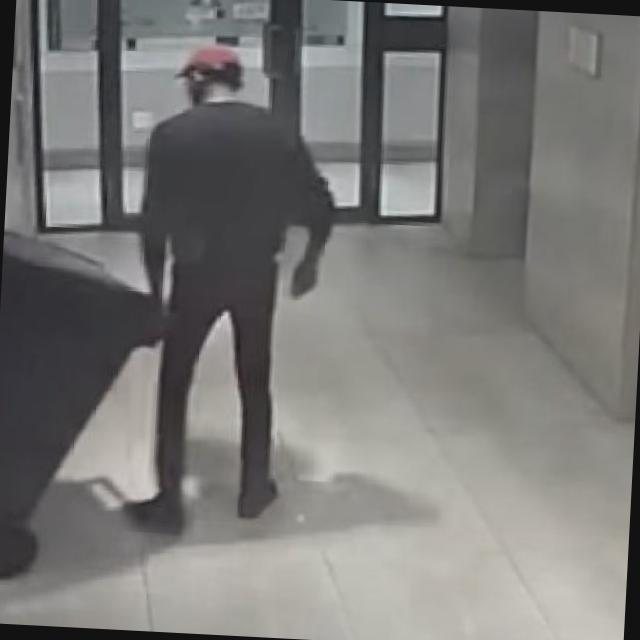Person: (118, 19, 318, 566)
